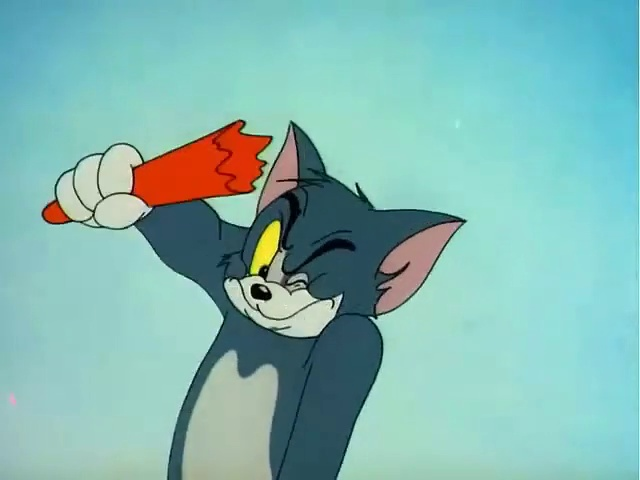tom: (31, 69, 473, 477)
